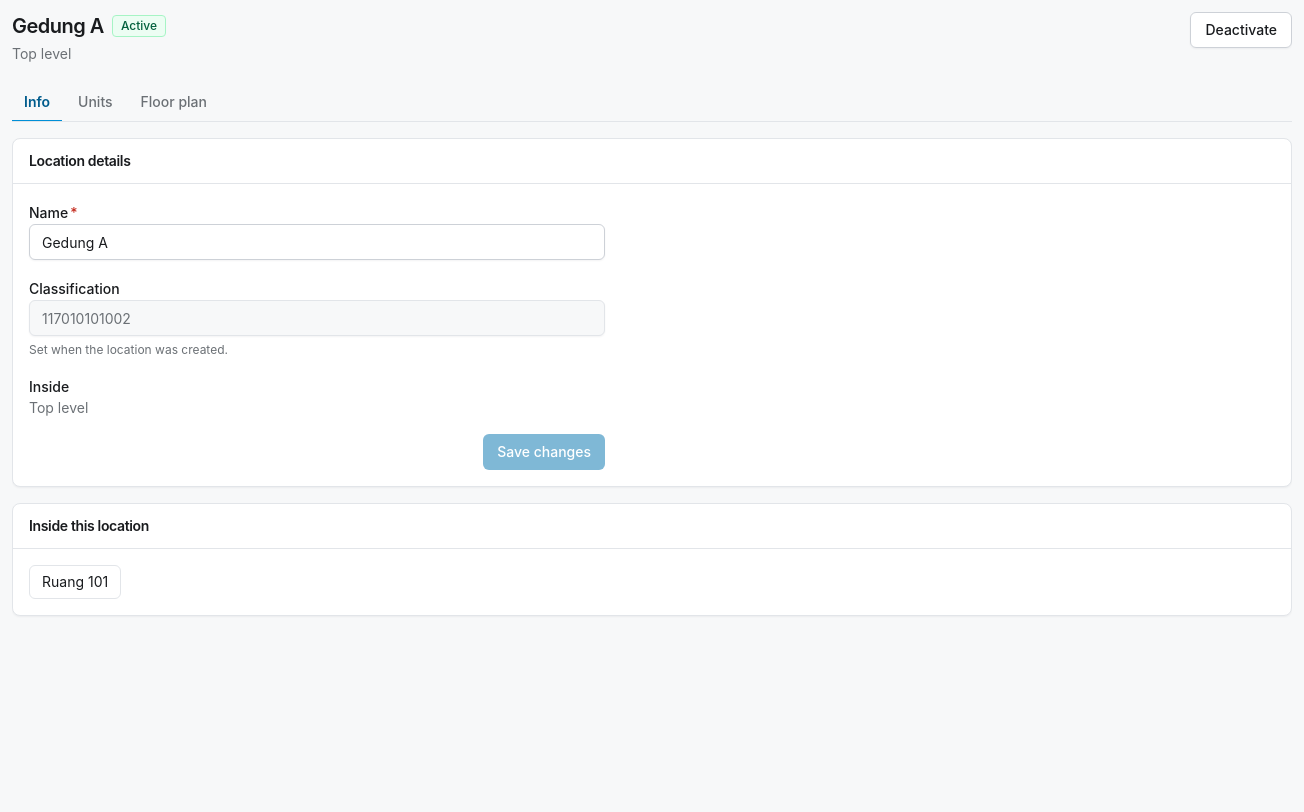
LocationDetailPage › says the unit list includes everything inside (DEC-004)
Click the tab "Units" at (95, 103), box [66, 84, 125, 122]
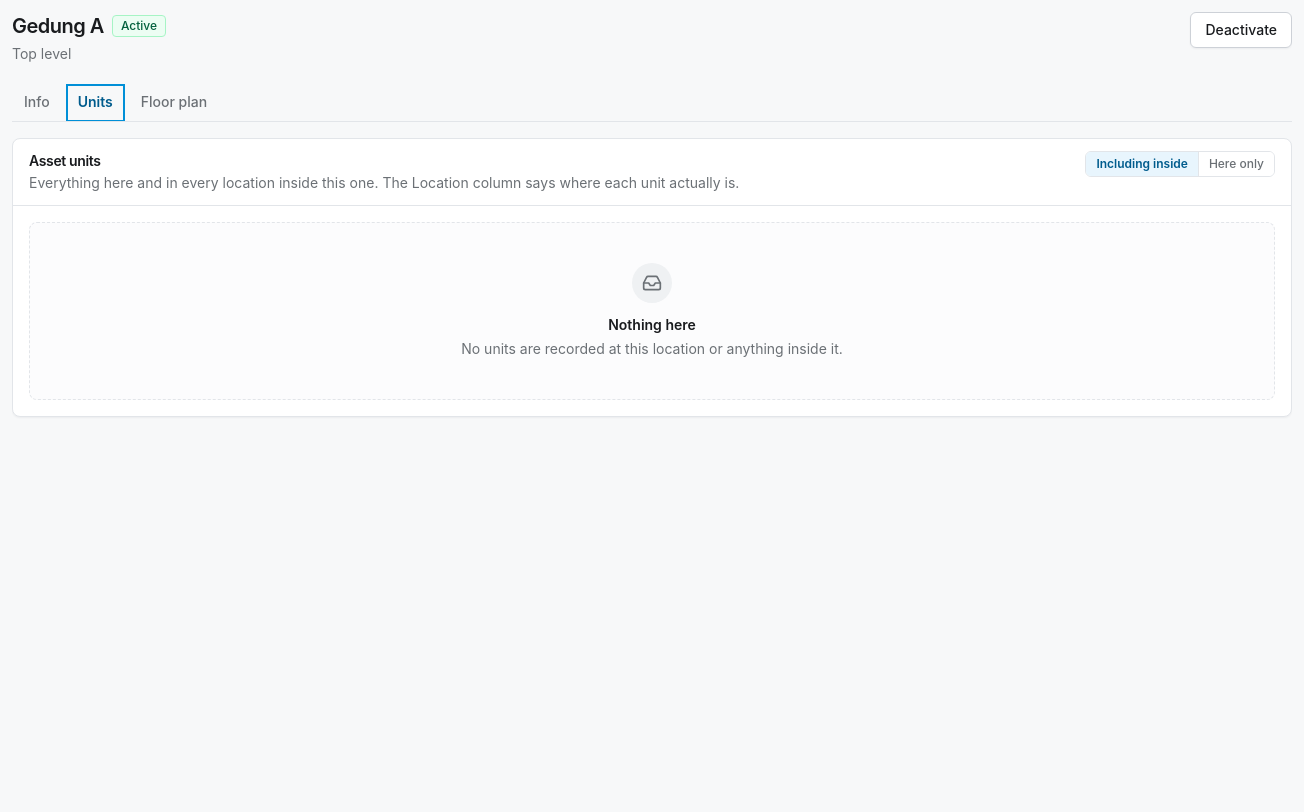
Result: the text "Everything here and in every location inside this one" is shown at [29, 174, 739, 191]
